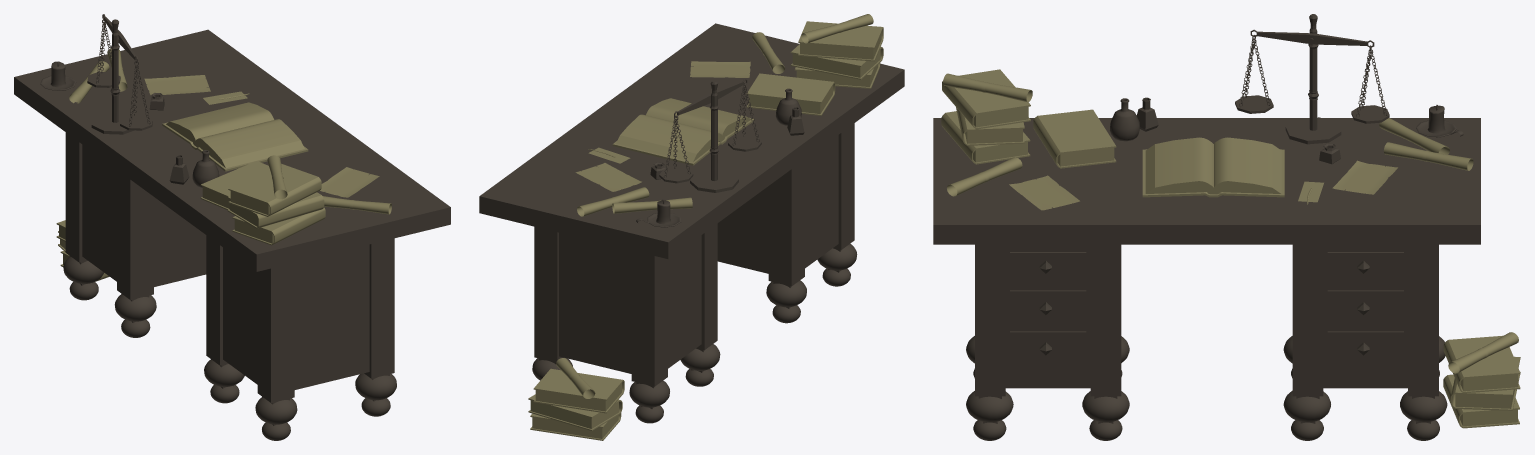
The model's file is administration_table.fbx.
3 renders of one model, left to right at view 1: azimuth 30°, elevation 25°; view 2: azimuth 150°, elevation 25°; view 3: azimuth 270°, elevation 25°, orthographic. The views are drawn at different scales.
Parts seen in each view (by area): view 1: table, main_book, balance, book4, book1, book2, book3, papyrus, papyrus1, parchment1, candle, bottle (+2 smaller); view 2: table, main_book, balance, book5, book3, book4, book7, book2, book6, papyrus, papyrus1, book1 (+7 smaller); view 3: table, main_book, balance, book3, book4, book5, book1, book6, papyrus1, book2, book7, papyrus (+7 smaller).
Boxes of the visible parts, left/top/right/bottom form: table: left=14, top=29, right=450, bottom=440; main_book: left=162, top=102, right=308, bottom=171; balance: left=87, top=14, right=152, bottom=134; book4: left=228, top=163, right=321, bottom=216; book1: left=232, top=207, right=325, bottom=245; book2: left=227, top=192, right=324, bottom=228; book3: left=200, top=161, right=269, bottom=209; papyrus: left=144, top=75, right=210, bottom=94; papyrus1: left=320, top=167, right=379, bottom=197; parchment1: left=322, top=196, right=391, bottom=214; candle: left=40, top=61, right=75, bottom=90; bottle: left=192, top=150, right=219, bottom=187; table: left=479, top=23, right=904, bottom=423; main_book: left=612, top=98, right=754, bottom=165; balance: left=659, top=79, right=761, bottom=192; book5: left=533, top=368, right=624, bottom=413; book3: left=746, top=73, right=835, bottom=115; book4: left=798, top=21, right=883, bottom=61; book7: left=528, top=394, right=622, bottom=430; book2: left=790, top=44, right=883, bottom=79; book6: left=530, top=413, right=621, bottom=440; papyrus: left=575, top=163, right=641, bottom=191; papyrus1: left=690, top=61, right=750, bottom=77; book1: left=794, top=63, right=880, bottom=88; table: left=933, top=118, right=1480, bottom=440; main_book: left=1142, top=137, right=1284, bottom=197; balance: left=1235, top=14, right=1389, bottom=144; book3: left=1033, top=109, right=1116, bottom=168; book4: left=942, top=69, right=1030, bottom=129; book5: left=1443, top=335, right=1520, bottom=393; book1: left=941, top=111, right=1030, bottom=164; book6: left=1443, top=374, right=1519, bottom=428; papyrus1: left=1009, top=175, right=1079, bottom=210; book2: left=956, top=107, right=1024, bottom=145; book7: left=1451, top=356, right=1520, bottom=410; papyrus: left=1332, top=160, right=1397, bottom=194.
Bounding box in the file's own units: 107 × 167 × 248.
